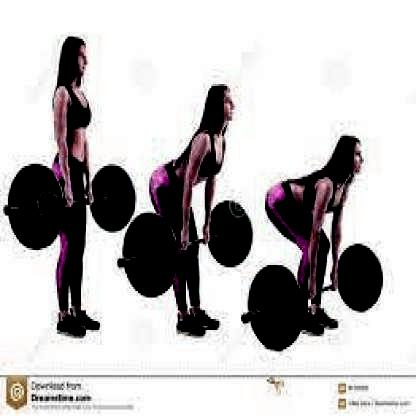Barbell: (239, 310, 251, 327), (115, 256, 127, 271), (5, 203, 14, 219)
